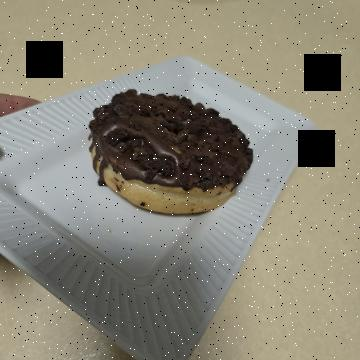doughnut: (83, 95, 238, 294)
